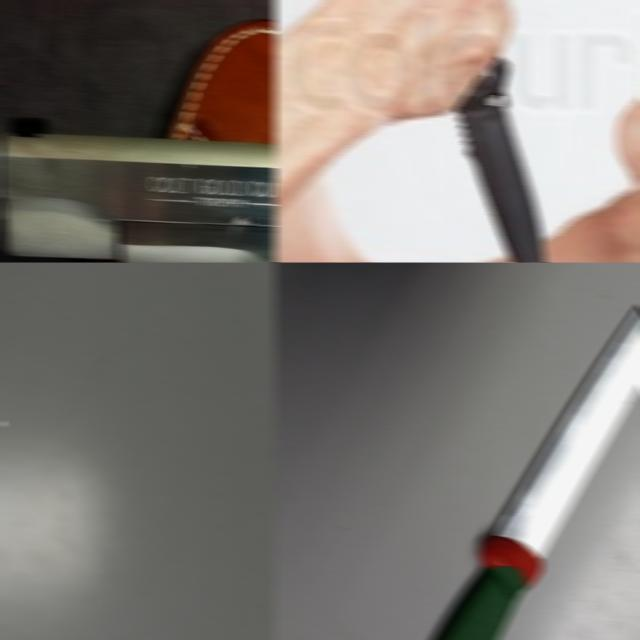Knife_Handle: (382, 0, 549, 262)
